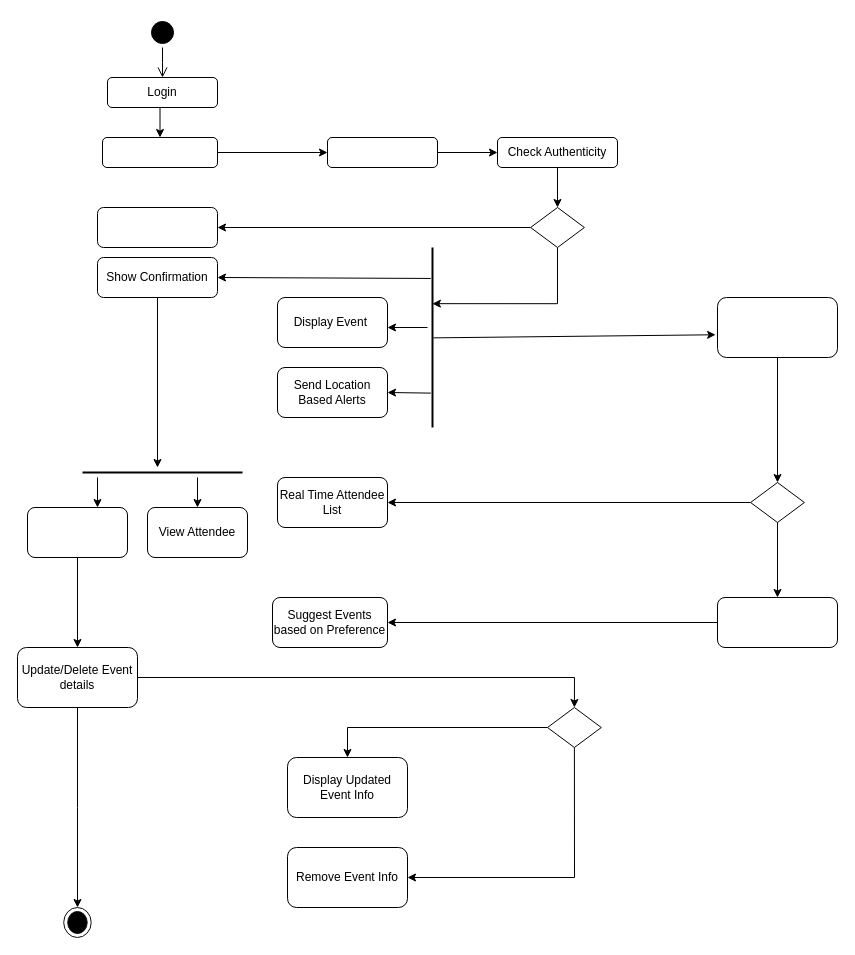
Some shapes in this 855 by 955 pixel diagram are drawn without their labels. The shapes that lost their labels are listed below. From the top down, each one's centre as x and y in pixels, then its label:
At (160,152): "Create Event".
At (382,152): "Validate Request".
At (157,227): "Show Error Message".
At (777,327): "Express Interest".
At (77,532): "Edit/Delete Event".
At (777,622): "Show Indifference & Set Preference".
